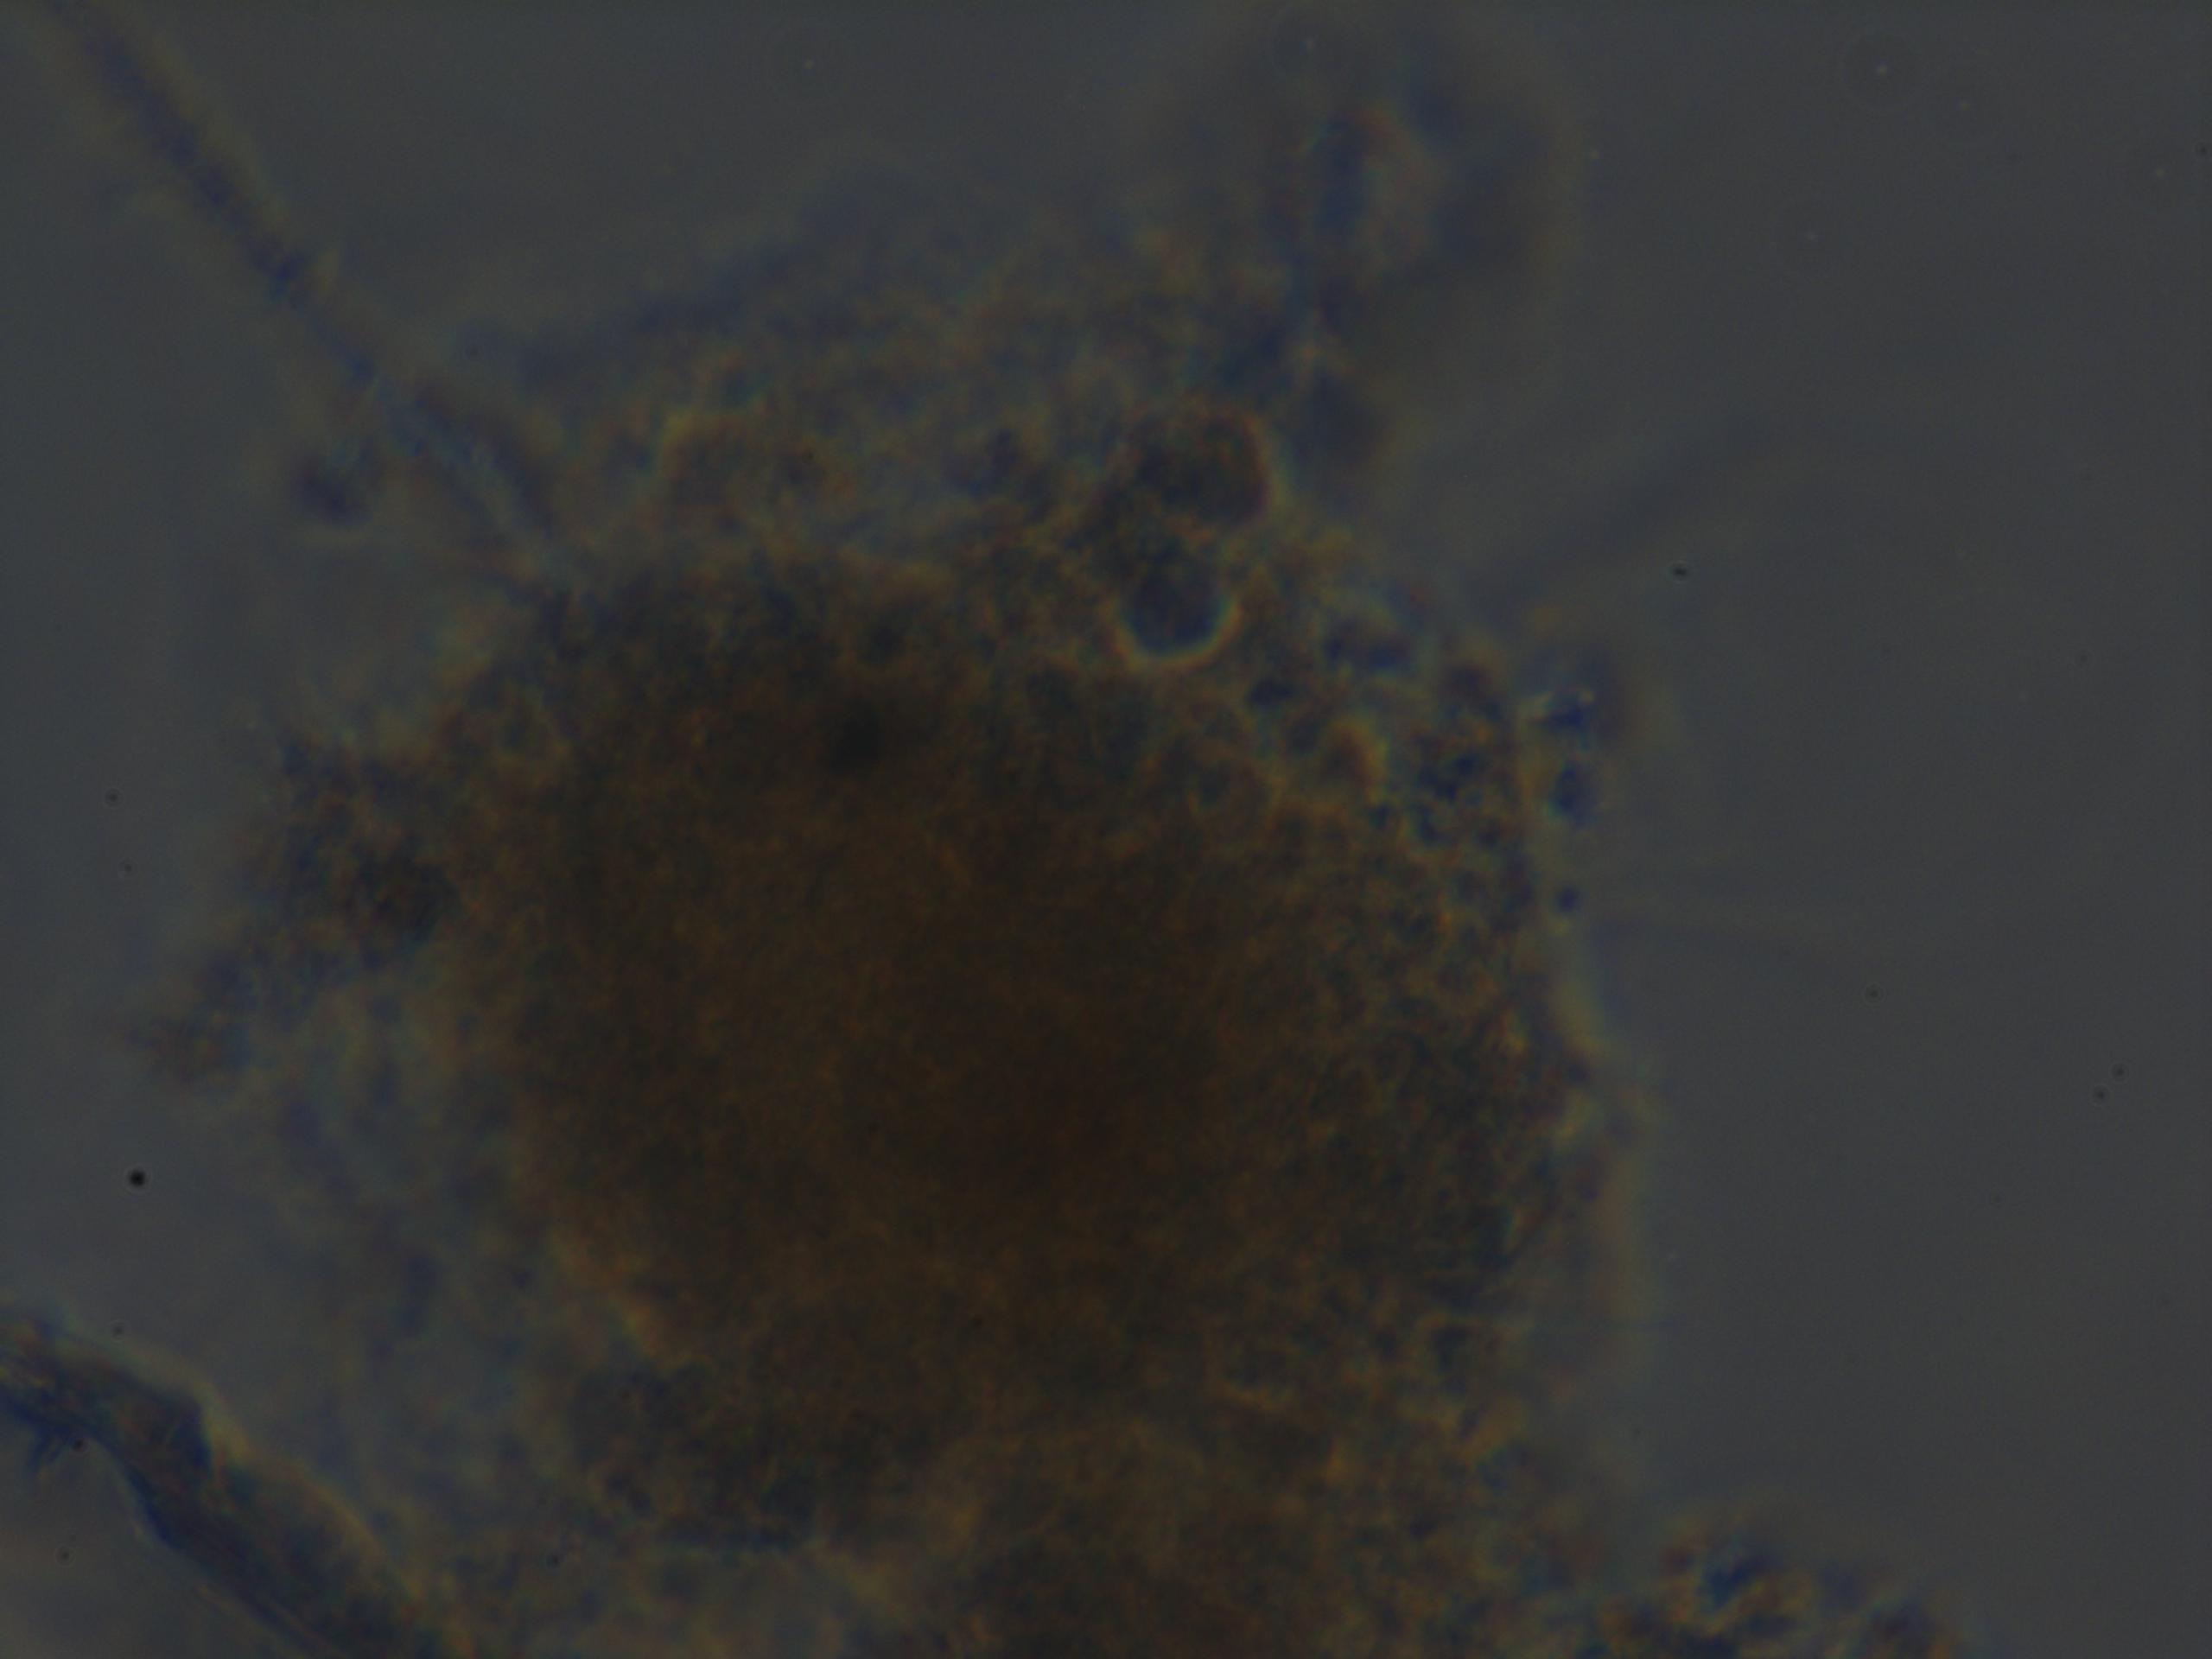filament: (33, 23, 583, 554)
spherical_floc: (399, 507, 1606, 1595)
